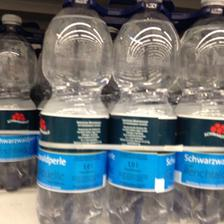Wasser: (36, 0, 111, 224), (107, 0, 181, 224), (180, 0, 222, 220), (1, 12, 40, 192)
